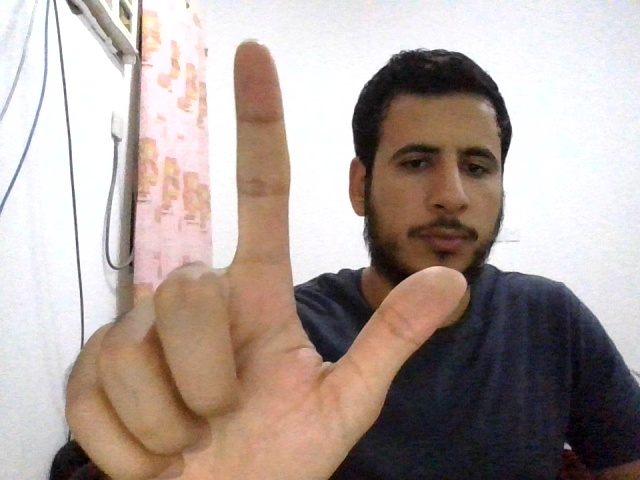Two: (64, 38, 468, 480)
